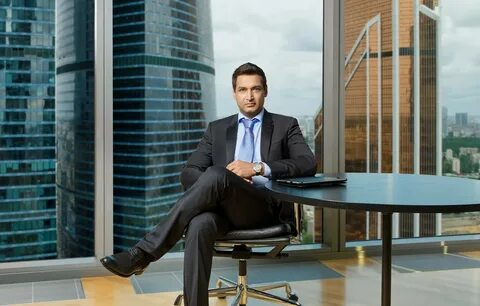awake: (98, 60, 317, 306)
